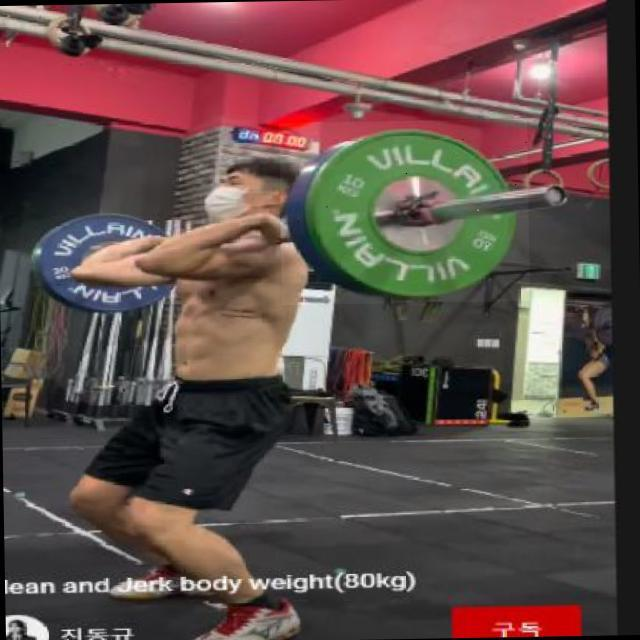barbell: (280, 120, 531, 306)
